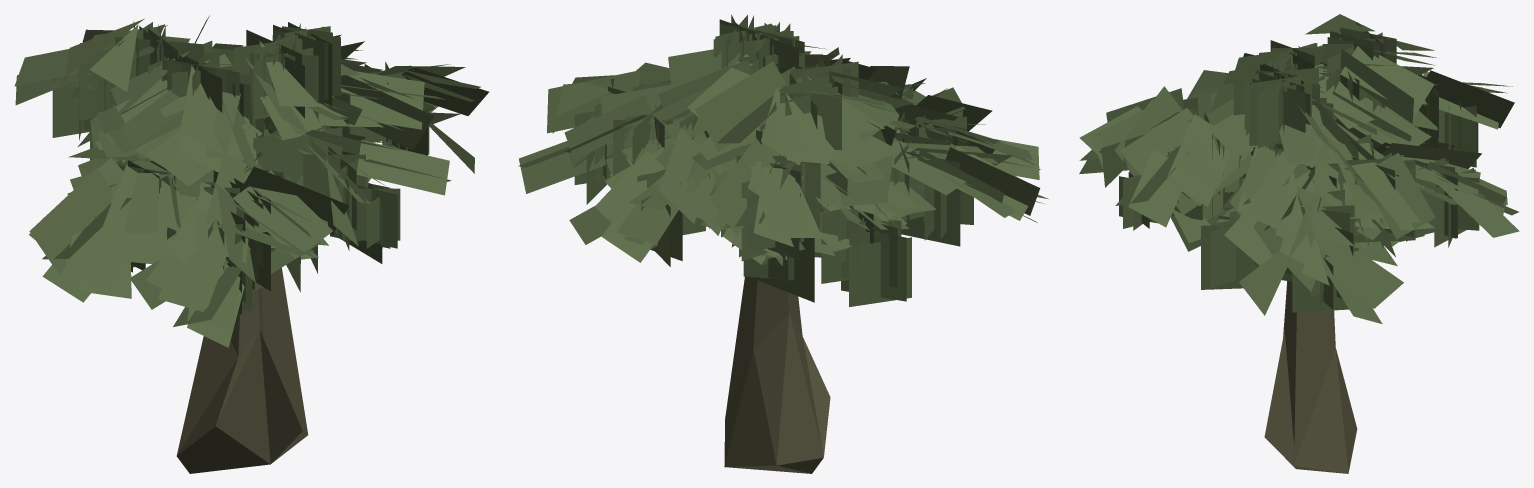
File: bald-cypress.lod2.glb
3 renders of one model, left to right at view 1: azimuth 30°, elevation 25°; view 2: azimuth 150°, elevation 25°; view 3: azimuth 270°, elevation 25°, orthographic. The views are drawn at different scales.
Visible parts, largest first — view 1: bald_cypress_03:Mesh_bald_cypress_03:Fronds_3_0; view 2: bald_cypress_03:Mesh_bald_cypress_03:Fronds_3_0; view 3: bald_cypress_03:Mesh_bald_cypress_03:Fronds_3_0.
Part boxes in pixels (bbox=[...]): bald_cypress_03:Mesh_bald_cypress_03:Fronds_3_0: bbox=[14, 15, 489, 473]; bald_cypress_03:Mesh_bald_cypress_03:Fronds_3_0: bbox=[519, 14, 1048, 473]; bald_cypress_03:Mesh_bald_cypress_03:Fronds_3_0: bbox=[1079, 14, 1519, 473].
Bounding box in the file's own units: 19.14 × 16.28 × 16.14.
